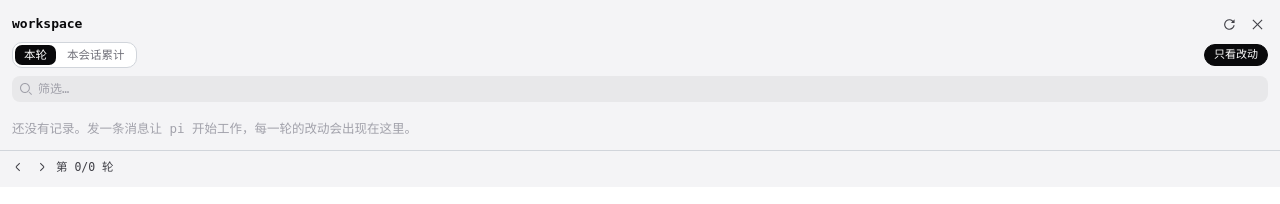
Test: ProjectPanel rounds › shows a notice when recording finds no new changes
Click the button titled "立即记录：把当前改动记为「你的修改」" at (1229, 24), box [1218,13,1240,35]
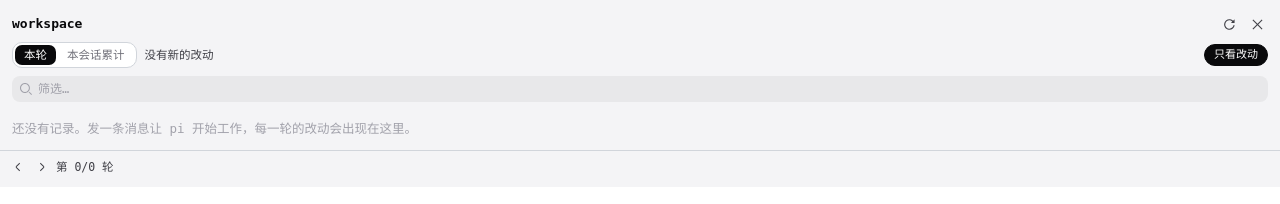
Result: the text "没有新的改动" is shown at [144,48,214,62]
